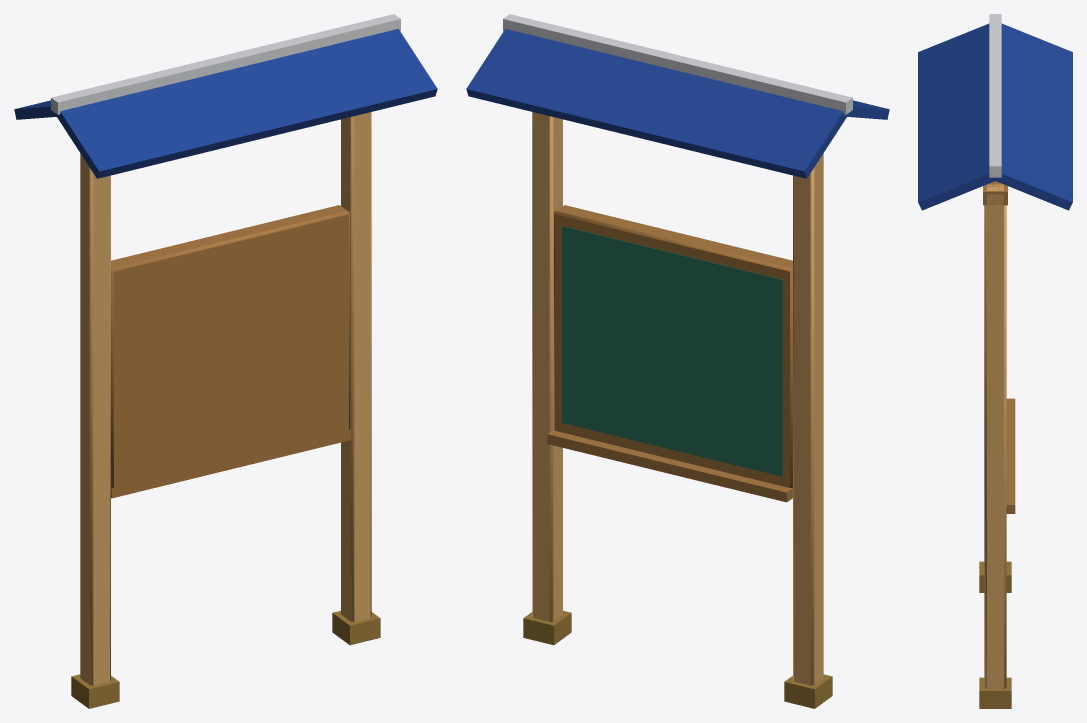
File: noticeboard.glb
The picture shows the model from 3 angles, left to right: view 1: azimuth 30°, elevation 25°; view 2: azimuth 150°, elevation 25°; view 3: azimuth 270°, elevation 25°; orthographic projection. The views are drawn at different scales.
Visible parts, largest first — view 1: body; view 2: body; view 3: body.
Boxes of the visible parts, x1,y1,x2,y2 form: body: (14, 14, 437, 708); body: (466, 14, 889, 708); body: (918, 14, 1072, 708).
Size of the model in its own units: 1.46 by 2.48 by 0.6269.
